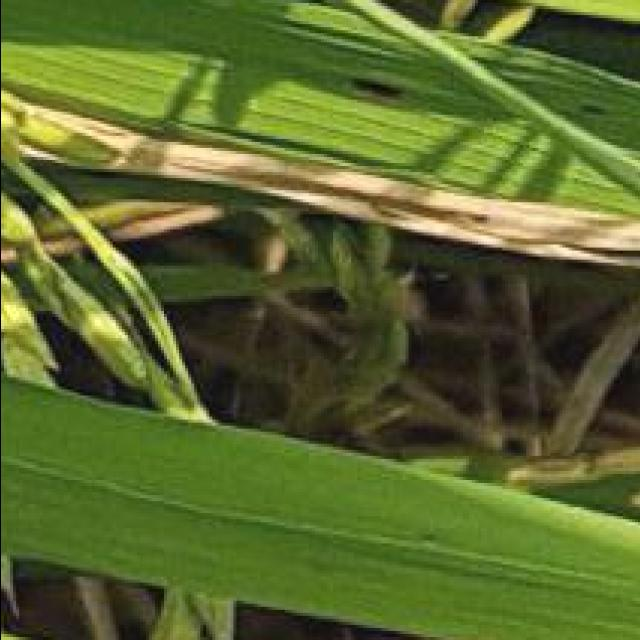Bacterial_Leaf_Blight: (60, 124, 640, 262)
